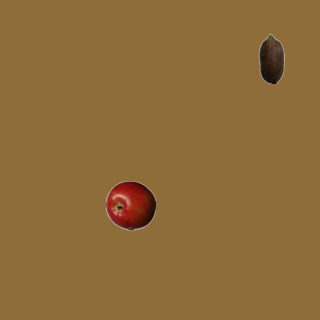Apple Braeburn: (105, 180, 155, 230)
Nut Pecan: (246, 33, 296, 83)
